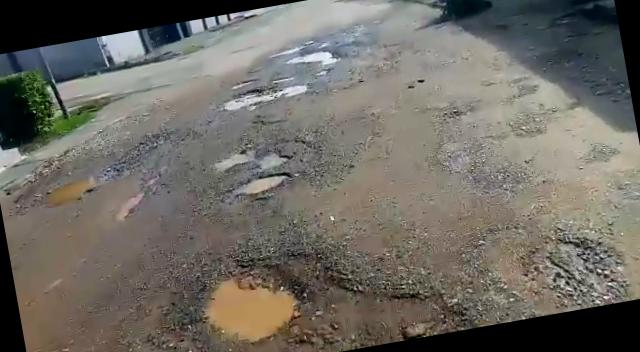pothole: (194, 259, 306, 352), (208, 138, 296, 177), (218, 78, 308, 111), (35, 172, 99, 207), (228, 166, 292, 200), (282, 46, 340, 70), (230, 76, 258, 88)
